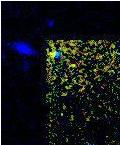star: (58, 50, 88, 80)
